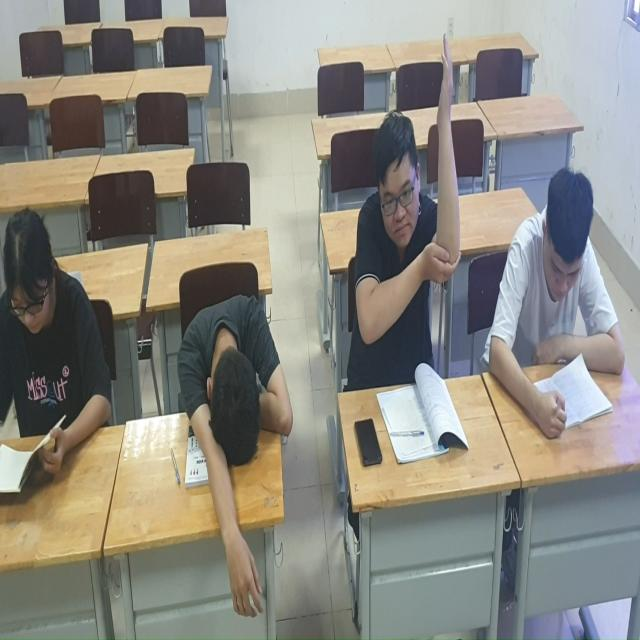raise_hand: (344, 36, 470, 450)
read: (498, 156, 635, 440), (1, 204, 128, 502)
sleep: (178, 278, 298, 623)
